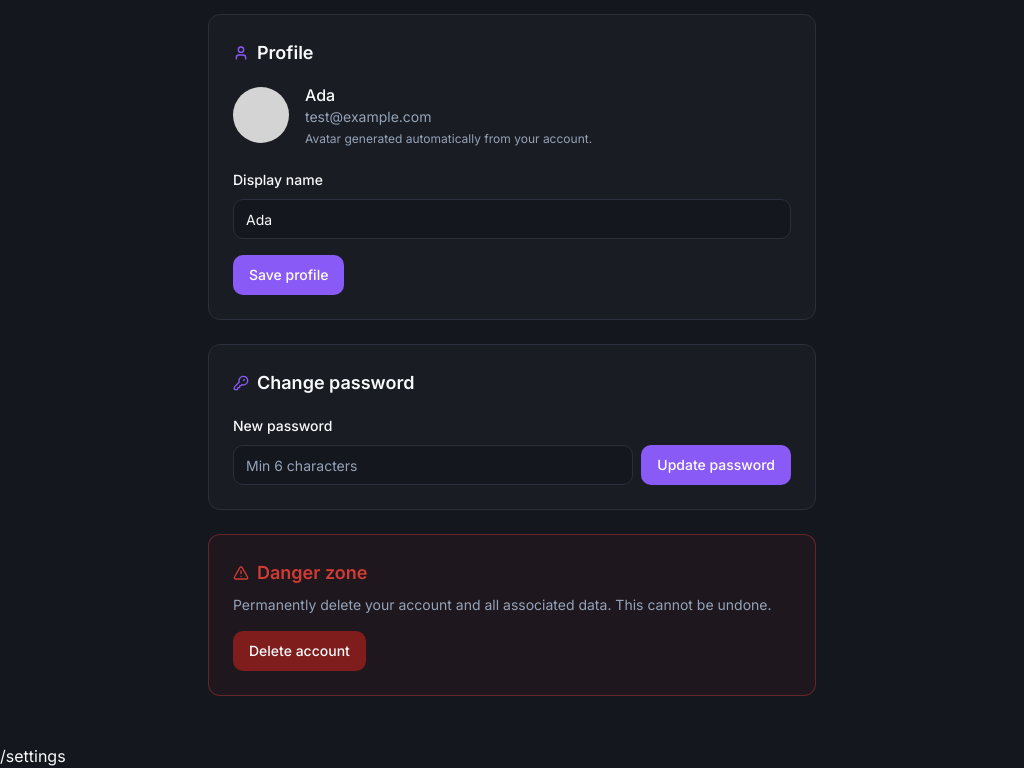
Test case: Settings: delete account › deletes via the edge function, signs out and returns home
(page scrolled)
Expected: the field labelled "Display name" holds "Ada", [233,199,791,239]
Click the button "Delete account" at (299, 651), box [233,631,366,671]
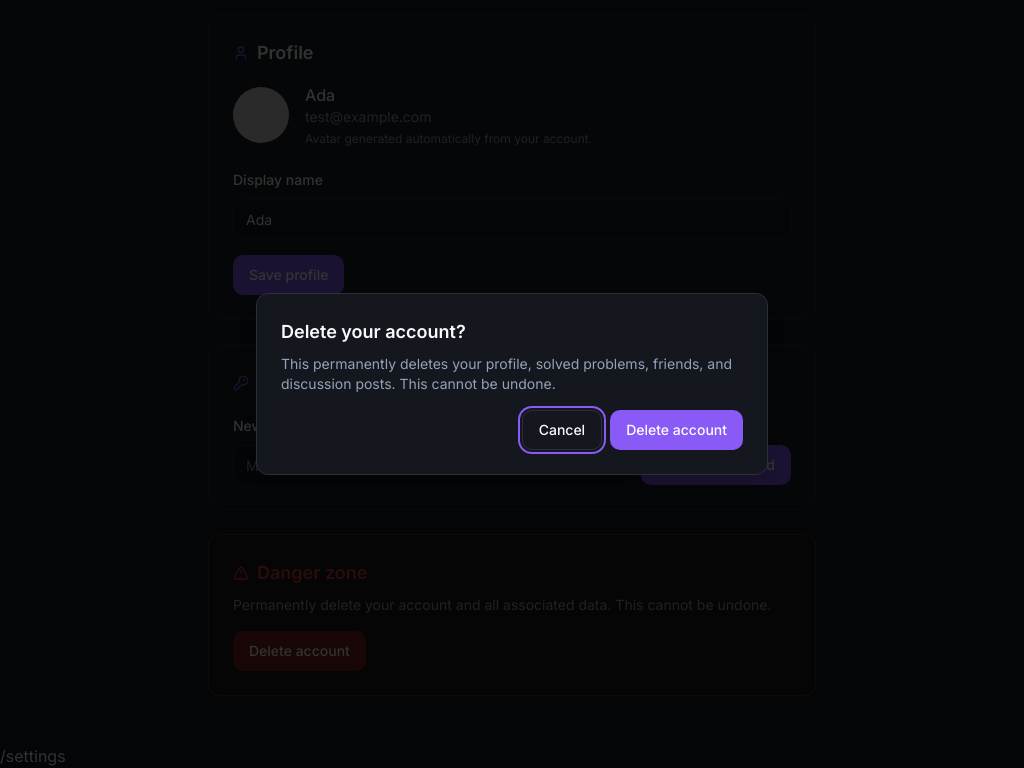
Click the button "Delete account" at (677, 430), box [610,410,743,450]
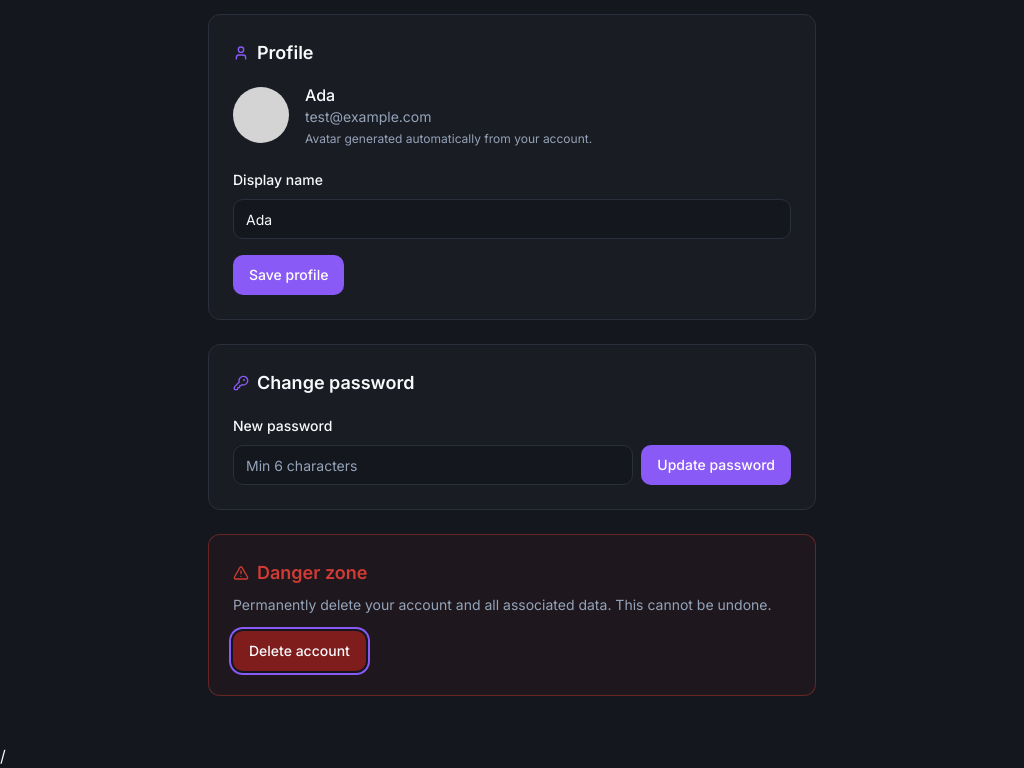
Now the text with test id "location" reads "/", box [0,746,6,766]
